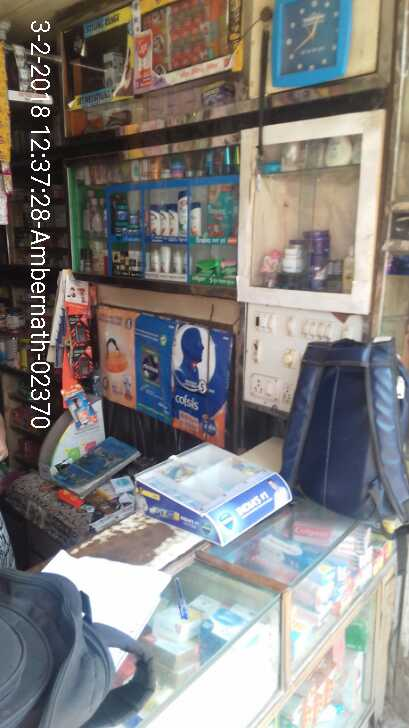beauty: (148, 195, 190, 234), (148, 240, 181, 271)
pharmacy: (204, 183, 237, 242), (110, 198, 144, 234)
